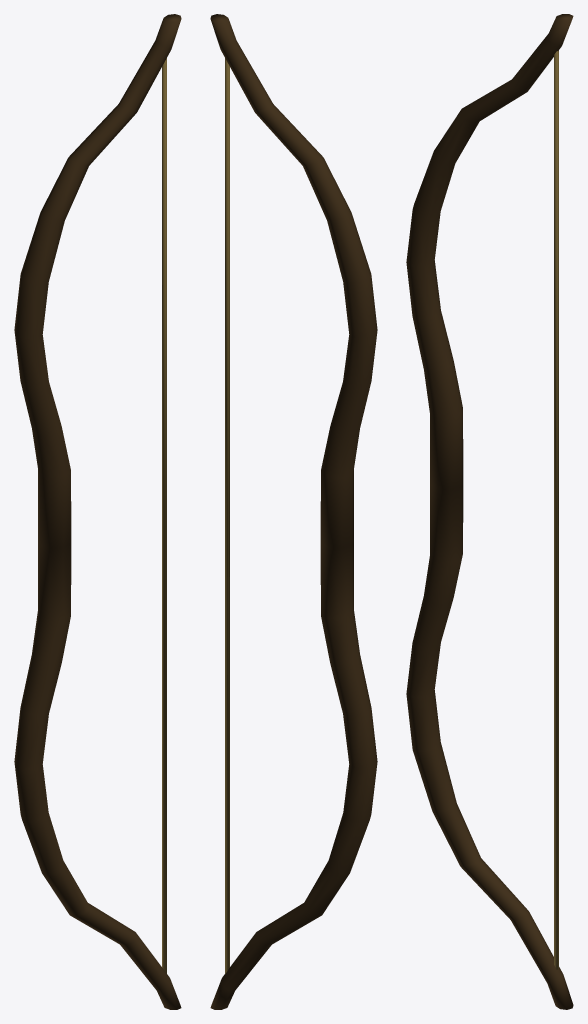
Rendered from recurve-bow.glb.
The picture shows the model from 3 angles, left to right: view 1: azimuth 30°, elevation 25°; view 2: azimuth 150°, elevation 25°; view 3: azimuth 330°, elevation 25°; orthographic projection.
Visible parts, largest first — view 1: Bow; view 2: Bow; view 3: Bow.
Boxes of the visible parts, box(x1,y1,x2,y2) form: Bow: box(14, 14, 181, 1009); Bow: box(210, 14, 377, 1009); Bow: box(406, 14, 573, 1009).
Size of the model in its own units: 0.2331 by 1.34 by 0.0421.
